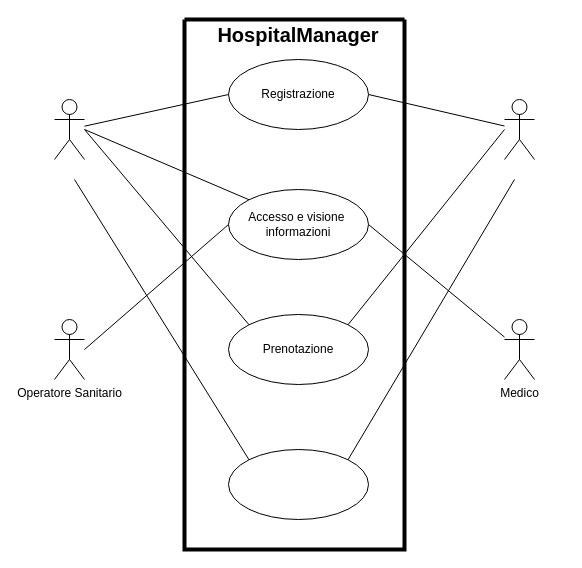
The diagram is 582 pixels wide and 568 high, and some of its shapes have lost their labels. Here are the shapes that lost their labels. From the top down, the centre of each, then its label:
point (69, 129): Paziente
point (519, 129): Operatore Ufficio
point (298, 484): Cancellazione della prenotazione
